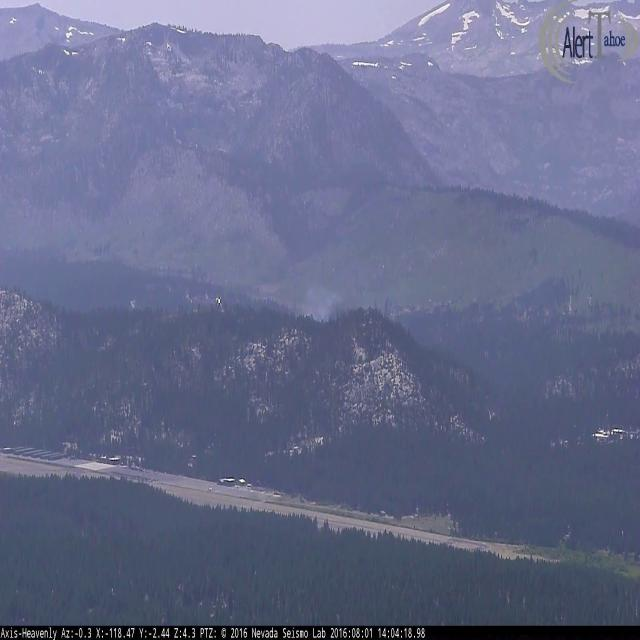smoke: (300, 275, 351, 327)
